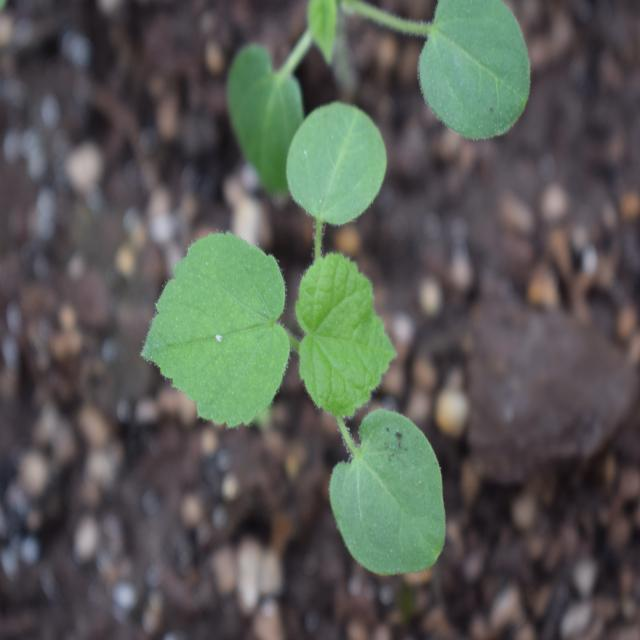abutilon theophrasti: (132, 82, 449, 554)
